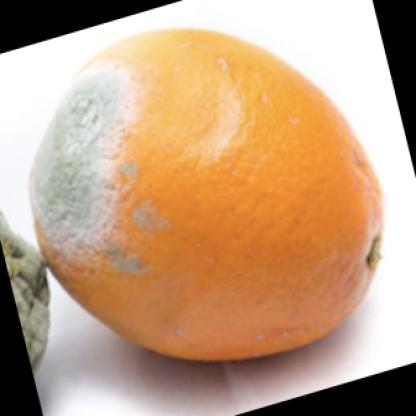rotten: (32, 30, 385, 360)
